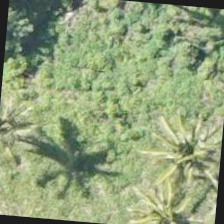Kelapa_Sawit: (142, 102, 223, 199), (105, 171, 200, 223)
